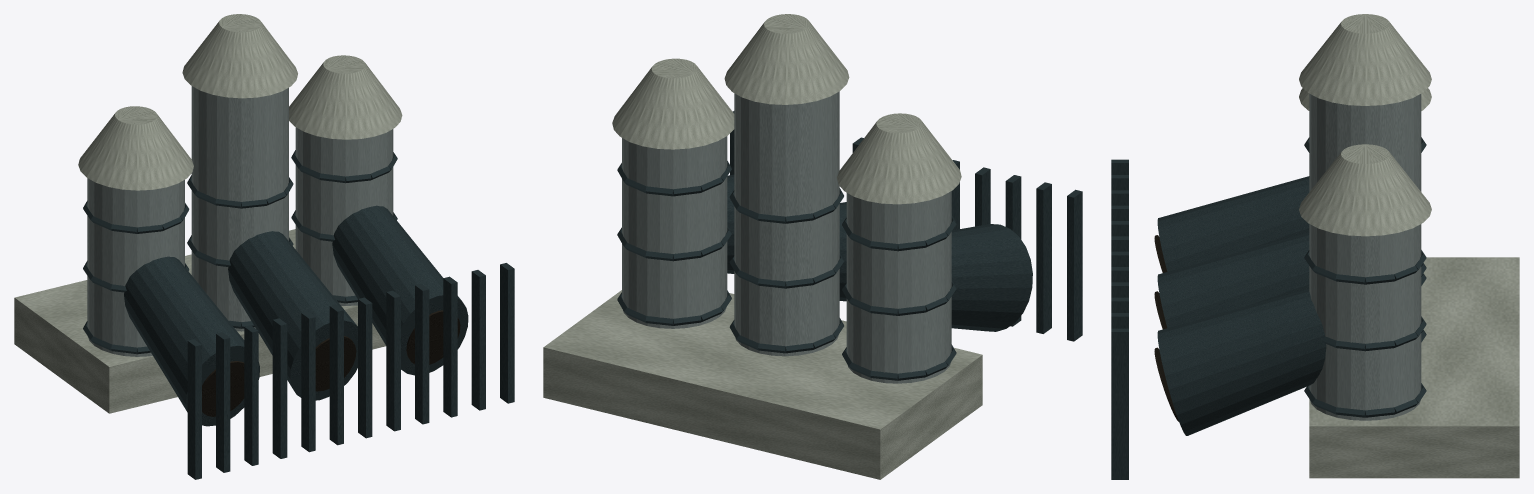
Rendered from ocean_intake_01.fbx.
3 views of the same model, side by side, from view 1: azimuth 30°, elevation 25°; view 2: azimuth 150°, elevation 25°; view 3: azimuth 270°, elevation 25° (orthographic). The views are drawn at different scales.
Visible parts, largest first — view 1: ocean_intake_01_LOD0; view 2: ocean_intake_01_LOD0; view 3: ocean_intake_01_LOD0.
Boxes of the visible parts, <box> form: ocean_intake_01_LOD0: <box>14,14,514,479</box>; ocean_intake_01_LOD0: <box>543,14,1082,479</box>; ocean_intake_01_LOD0: <box>1111,14,1519,479</box>.
Size of what is drawn, in the model's own units: 1 by 1 by 1.
